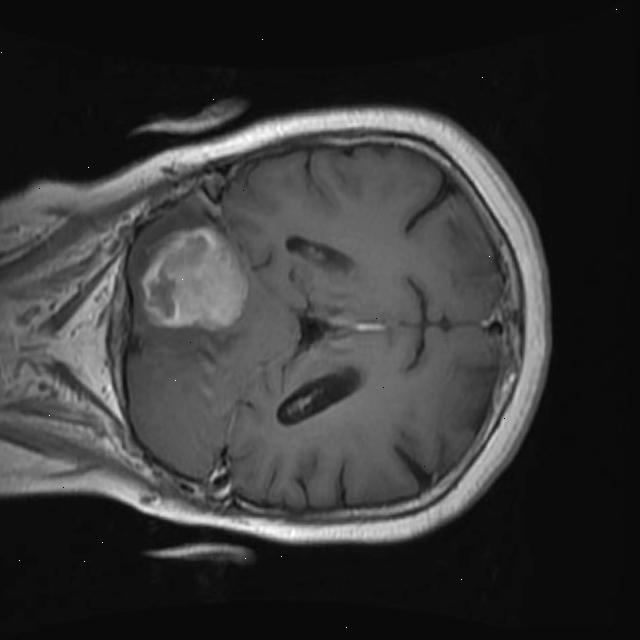Meningioma: (134, 223, 251, 336)
